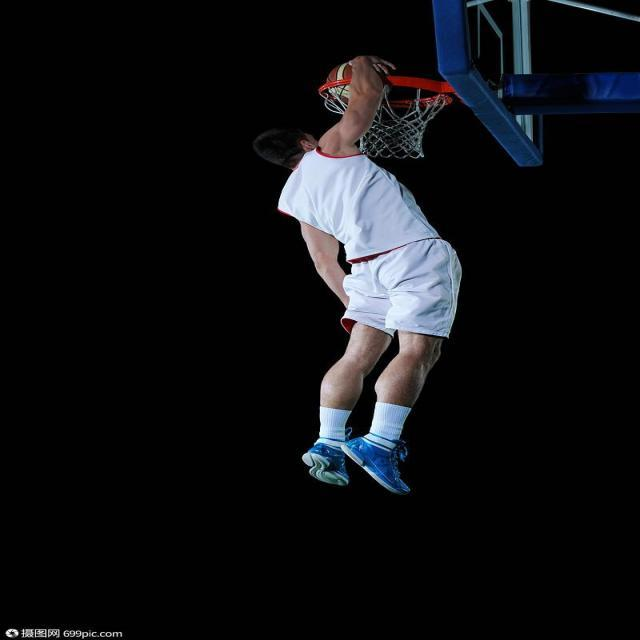rim: (324, 54, 400, 101)
